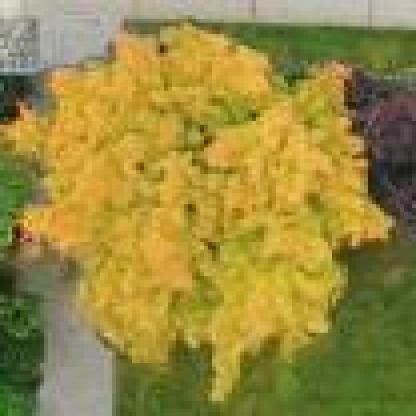Deciduous Tree: (24, 17, 360, 391), (308, 57, 416, 246)
